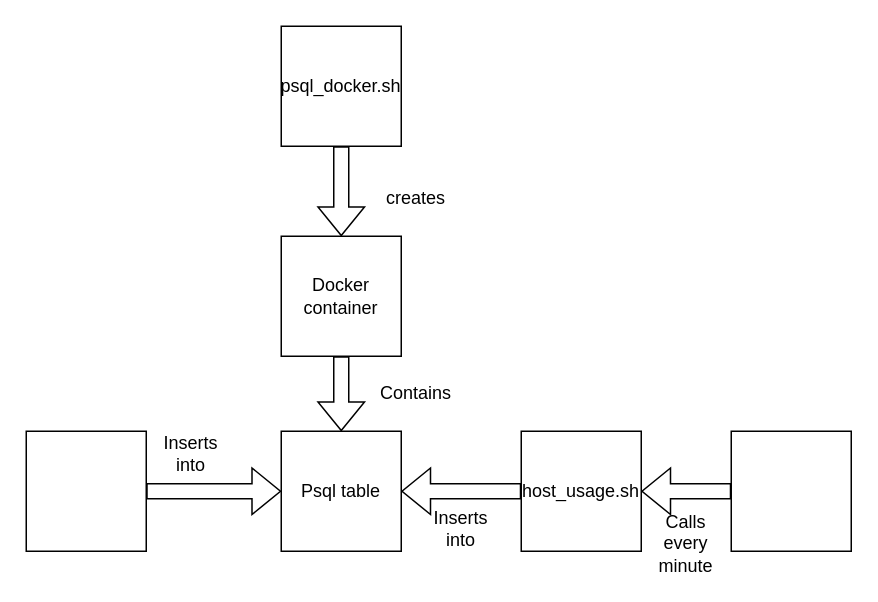
The diagram is 878 pixels wide and 602 high, and some of its shapes have lost their labels. The shapes that lost their labels are listed below. From the top down, each one's centre as x and y in pixels, then its label:
At point 85,490: "host_info.sh".
At point 790,490: "crontab".
